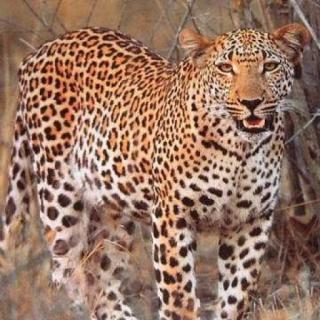Leopard: (2, 12, 320, 319)
